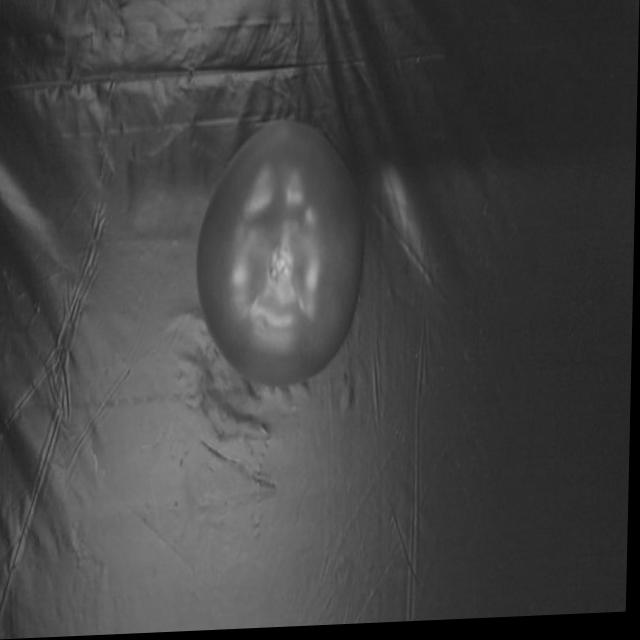kirmizi: (158, 93, 378, 411)
